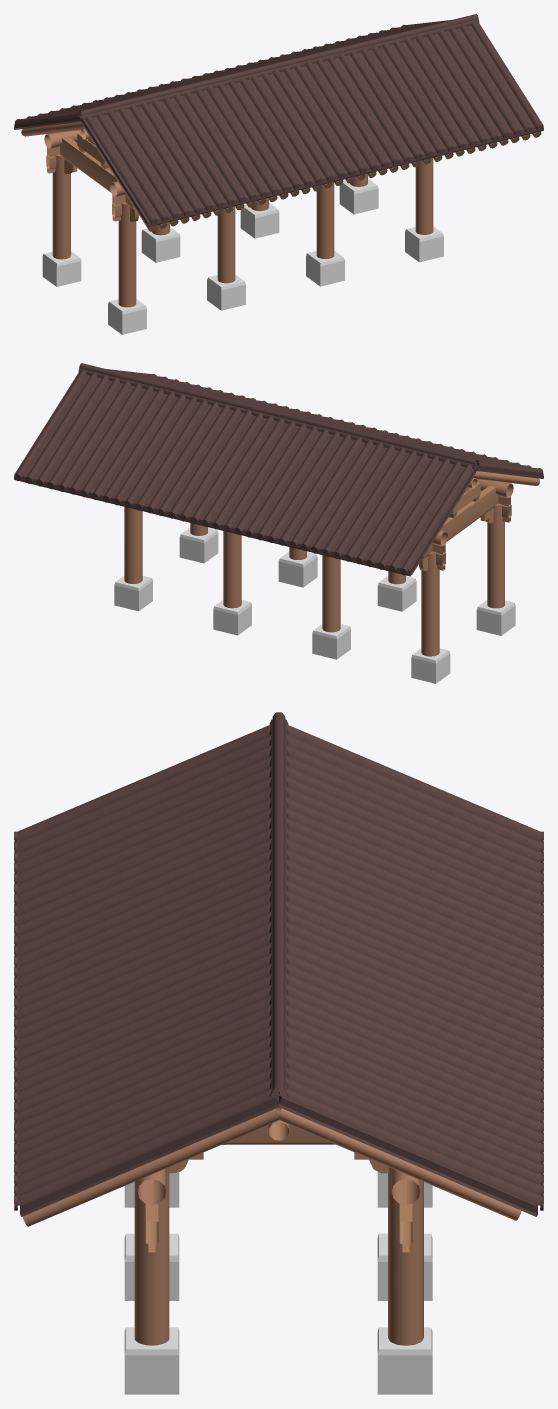
The model's file is Gallery_Segment.fbx.
3 renders of one model, top to bottom at view 1: azimuth 30°, elevation 25°; view 2: azimuth 150°, elevation 25°; view 3: azimuth 270°, elevation 25°, orthographic. The views are drawn at different scales.
Parts seen in each view (by area): view 1: GallerySegment; view 2: GallerySegment; view 3: GallerySegment.
Part boxes in pixels (left/top/right/bottom): GallerySegment: left=14, top=14, right=543, bottom=334; GallerySegment: left=14, top=363, right=543, bottom=683; GallerySegment: left=14, top=712, right=543, bottom=1394.
Size of the model in its own units: 677 by 318 by 406.
